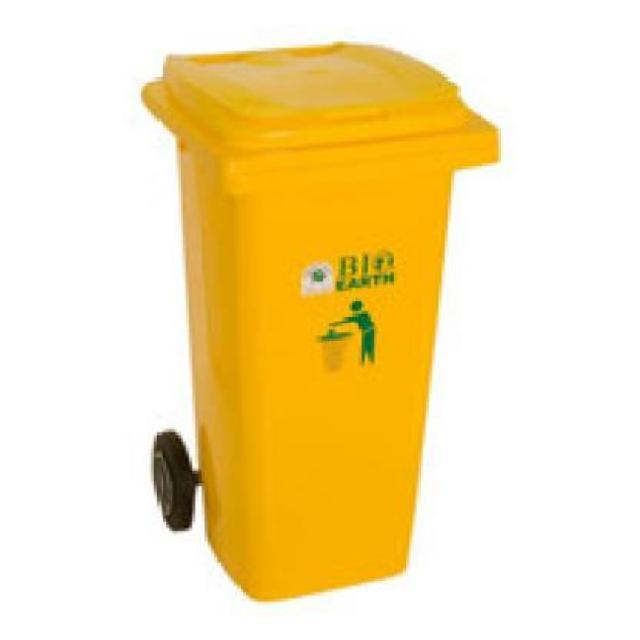garbage container: (126, 36, 526, 624)
